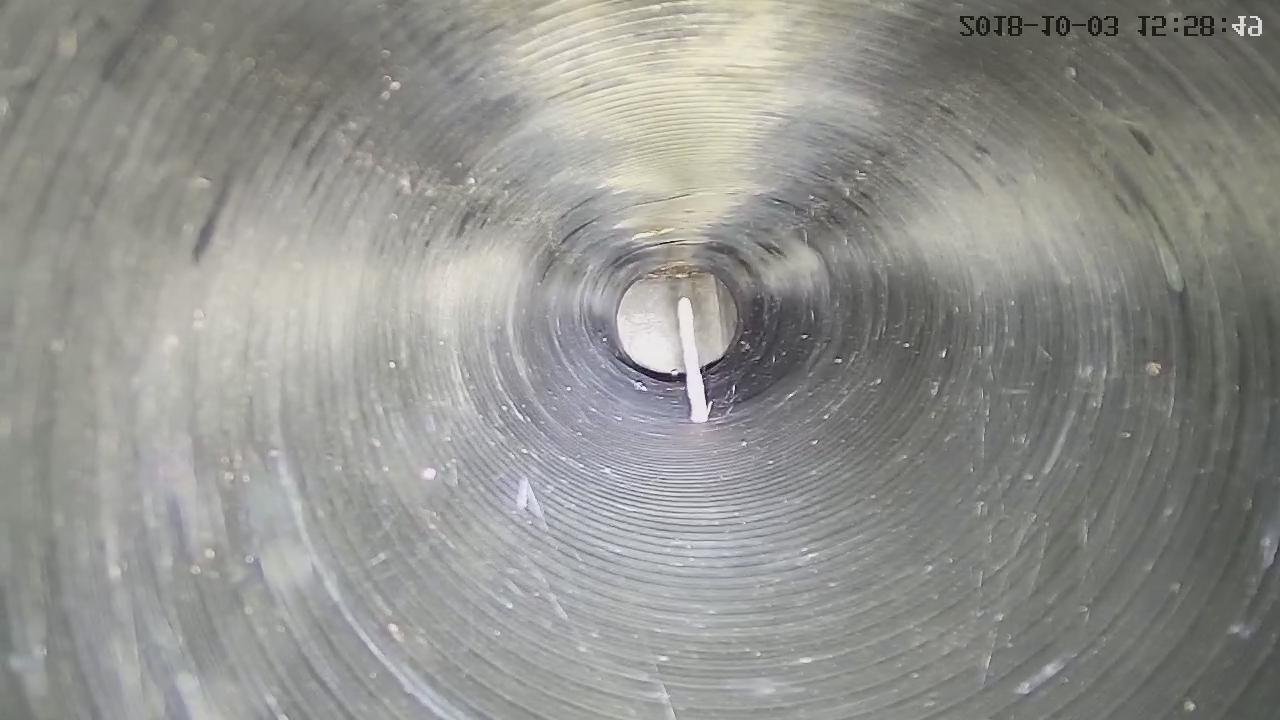YWCR: (676, 297, 711, 423)
